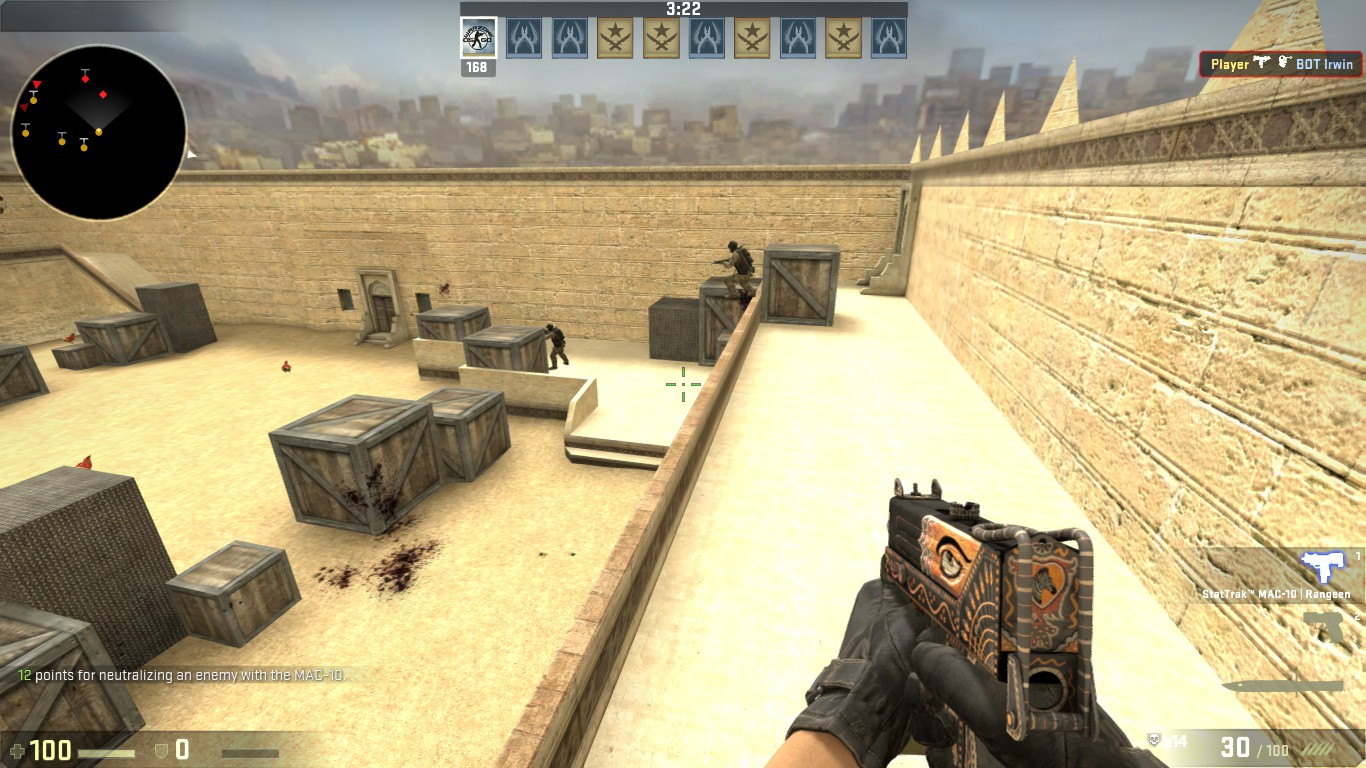c: (722, 240, 753, 298), (547, 321, 566, 370)
ch: (725, 239, 740, 255), (545, 322, 557, 333)
